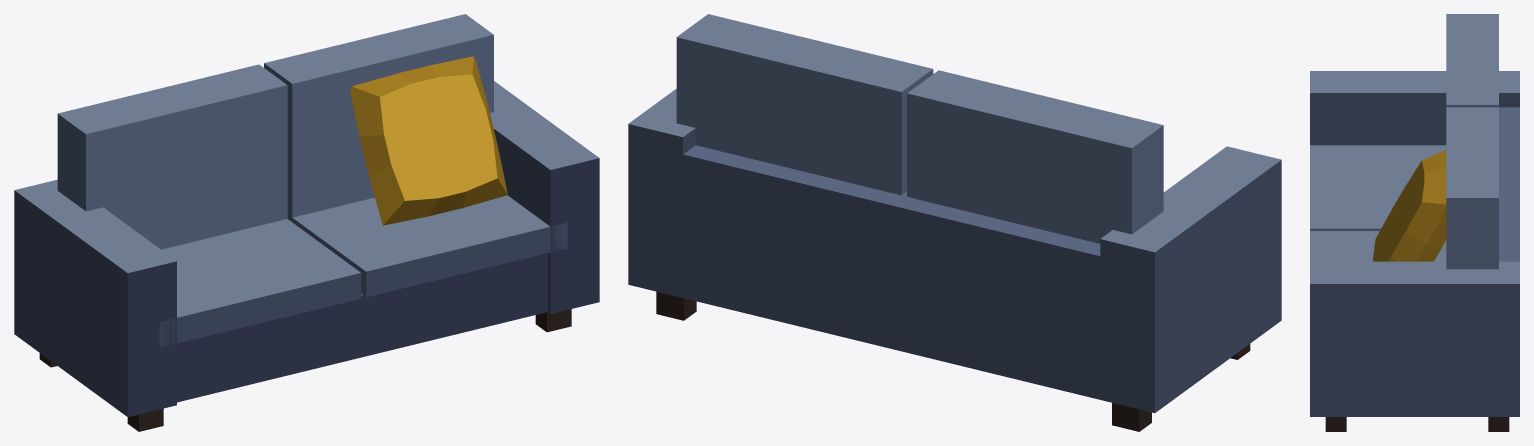
Rendered from sofa_basic.fbx.
The picture shows the model from 3 angles, left to right: view 1: azimuth 30°, elevation 25°; view 2: azimuth 150°, elevation 25°; view 3: azimuth 270°, elevation 25°; orthographic projection. The views are drawn at different scales.
Parts seen in each view (by area): view 1: sofa_basic; view 2: sofa_basic; view 3: sofa_basic.
Part boxes in pixels (x1=…): sofa_basic: x1=14, y1=14, x2=599, y2=431; sofa_basic: x1=628, y1=14, x2=1281, y2=431; sofa_basic: x1=1310, y1=14, x2=1519, y2=431.
Bounding box in the file's own units: 0.96 × 0.48 × 0.4.
